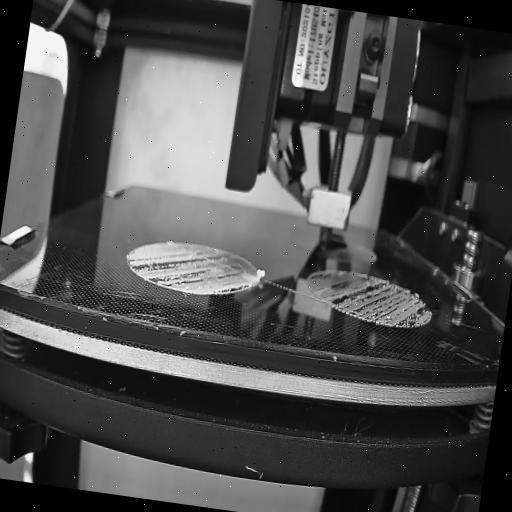under_extrusion: (304, 266, 435, 332), (125, 242, 255, 304)
